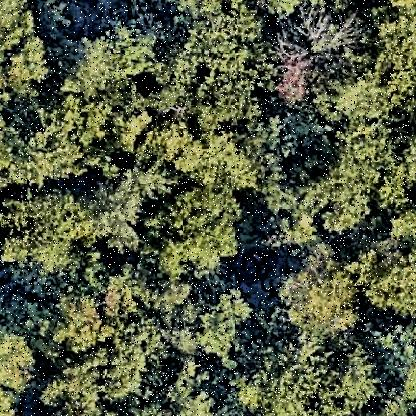tree-top: (37, 286, 155, 404), (161, 14, 269, 124), (232, 334, 376, 416), (146, 186, 256, 272), (1, 180, 91, 283), (58, 18, 163, 101), (268, 253, 364, 337), (85, 164, 171, 256), (155, 120, 260, 194), (4, 105, 98, 183), (268, 148, 380, 212), (278, 14, 366, 87), (357, 211, 416, 318), (190, 289, 256, 370), (1, 1, 52, 102), (373, 2, 416, 109), (1, 318, 36, 412)
